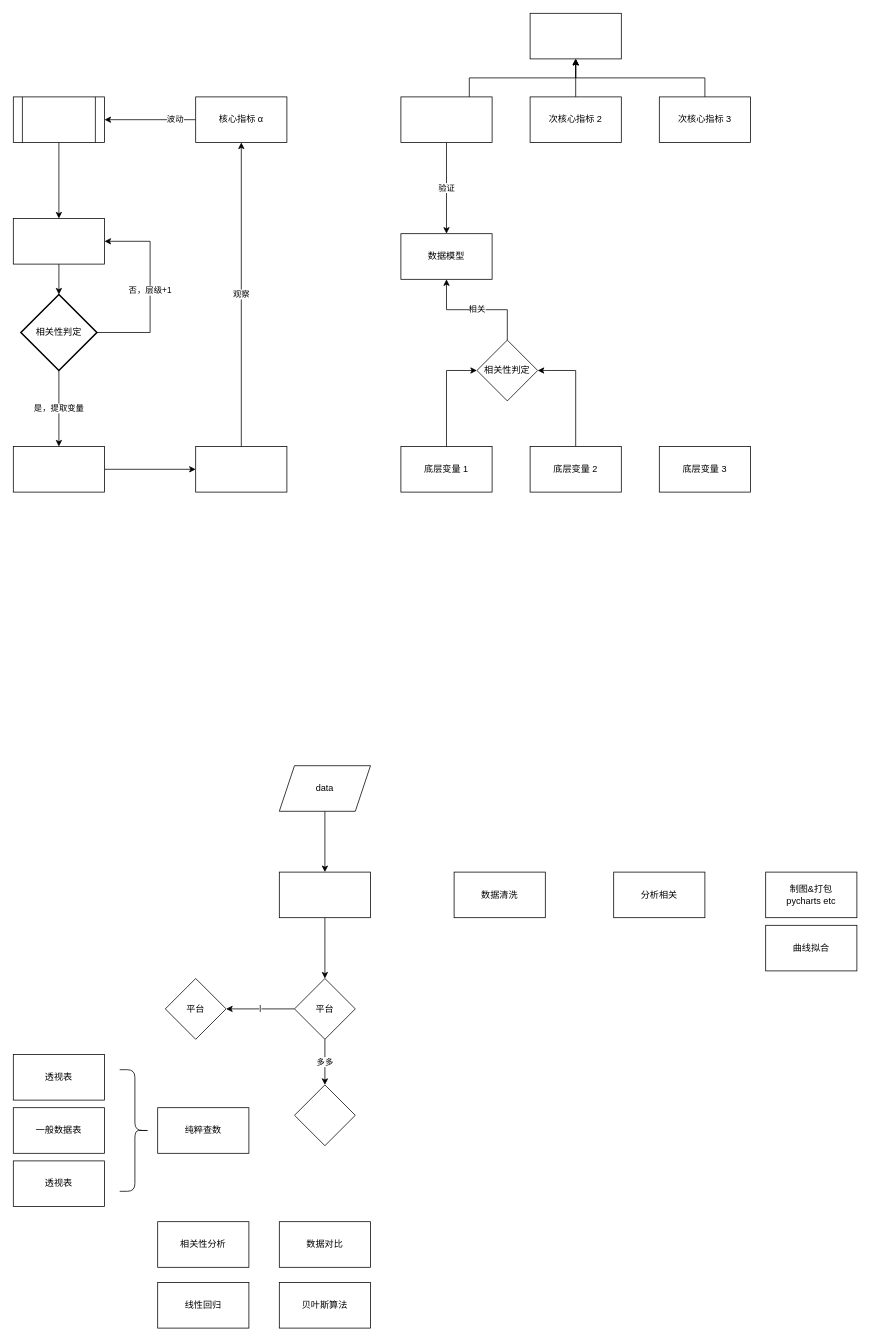
Some shapes in this 870 by 1341 pixel diagram are drawn without their labels. The shapes that lost their labels are listed below. From the top down, each one's box as (x1, y1, x2, y2) in pixels, then its label:
(529, 13, 621, 59): 核心指标
(13, 96, 104, 142): 次指标分解
(400, 96, 492, 142): 次核心指标 1
(13, 218, 104, 264): 归因层级
(13, 446, 104, 492): 核心变量 β
(195, 446, 287, 492): 调整&记录
(279, 871, 370, 918): 数据库连接池-DBUtils
(294, 1084, 355, 1146): 业务类型
